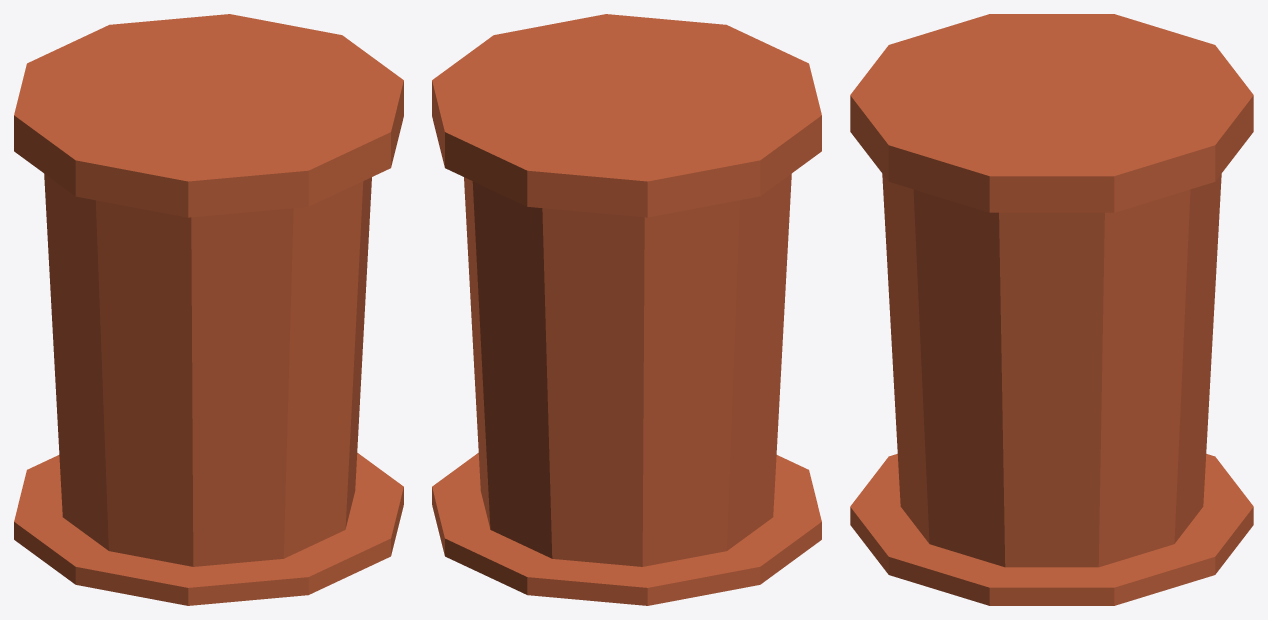
The model's file is patio_side_table_stool.glb.
The picture shows the model from 3 angles, left to right: view 1: azimuth 30°, elevation 25°; view 2: azimuth 150°, elevation 25°; view 3: azimuth 270°, elevation 25°; orthographic projection.
Parts seen in each view (by area): view 1: side_table_stool; view 2: side_table_stool; view 3: side_table_stool.
Boxes of the visible parts, bbox=[...] form: side_table_stool: bbox=[14, 14, 403, 605]; side_table_stool: bbox=[432, 14, 821, 605]; side_table_stool: bbox=[850, 14, 1253, 605].
Size of the model in its own units: 0.3804 by 0.47 by 0.4.
